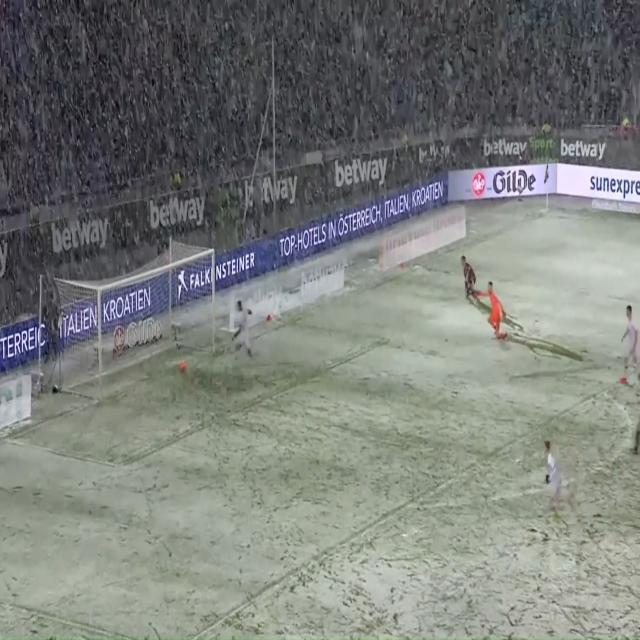ball: (177, 357, 188, 376)
goalkeeper: (469, 272, 513, 348)
player: (539, 428, 568, 524), (616, 295, 640, 389), (229, 289, 257, 369), (456, 251, 478, 310)
